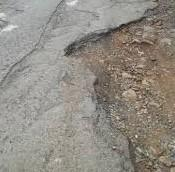crack: (0, 0, 62, 85)
pothole: (64, 1, 175, 172)
